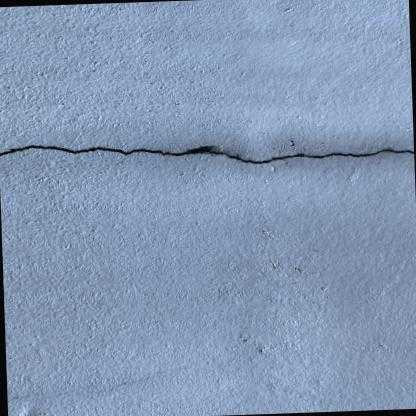crack: (0, 145, 414, 165)
